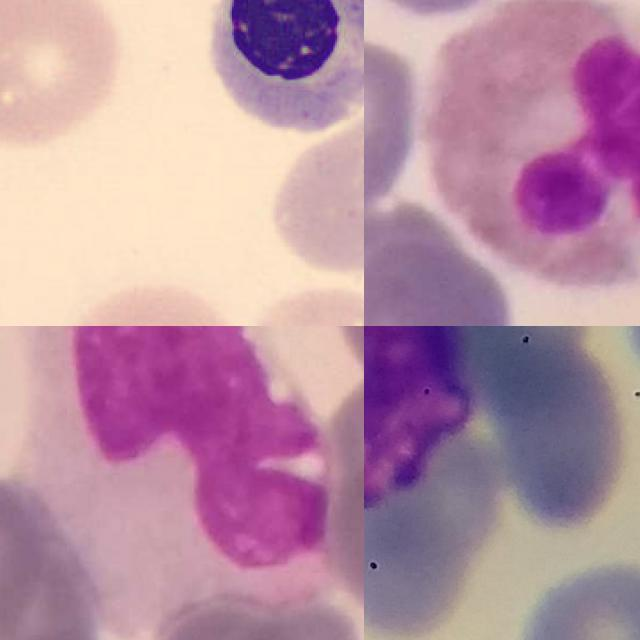Basophil: (364, 326, 480, 513)
Eosinophil: (429, 0, 640, 288)
Lymphocyte: (189, 0, 364, 141)
Monocyte: (24, 326, 334, 634)
RBC: (0, 0, 129, 153), (264, 104, 364, 278), (52, 275, 242, 326), (232, 280, 364, 326)
